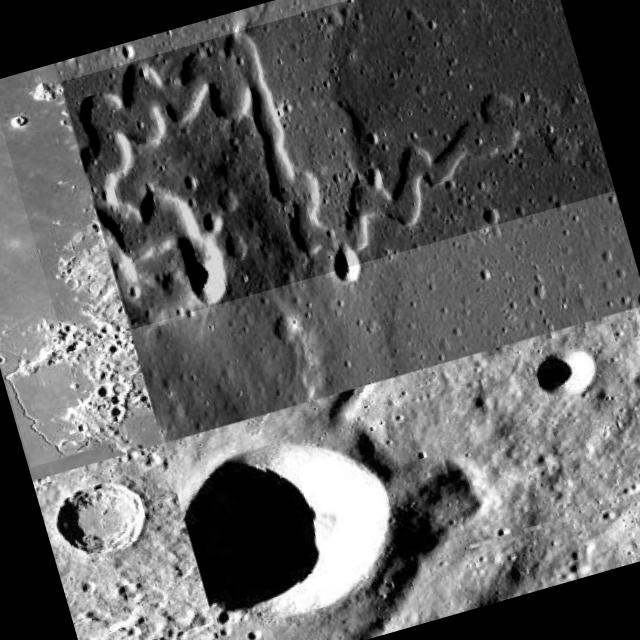crater: (62, 0, 616, 329), (0, 82, 95, 467)
